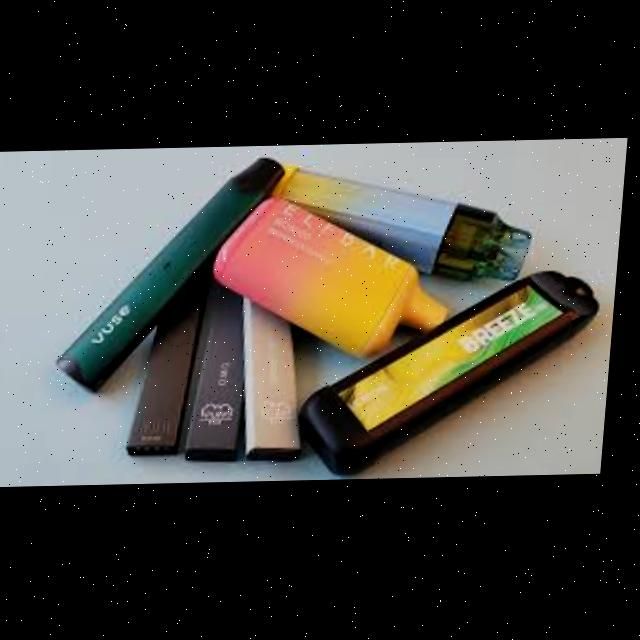vape: (306, 274, 604, 478), (62, 159, 288, 394), (217, 198, 455, 364), (272, 167, 538, 284), (135, 261, 220, 457), (193, 286, 253, 465), (248, 297, 309, 464)
